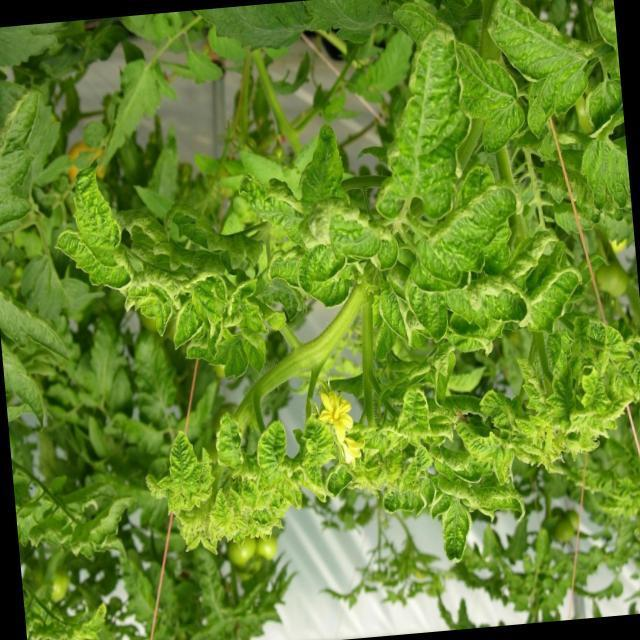Yellow Curl Virus: (364, 24, 479, 218), (414, 178, 536, 284), (477, 0, 586, 81), (294, 122, 348, 211), (520, 262, 586, 333), (407, 265, 452, 359), (70, 159, 114, 250), (437, 492, 474, 570), (293, 241, 344, 296), (393, 386, 436, 439), (166, 298, 203, 359), (251, 416, 291, 472), (164, 426, 200, 487), (377, 284, 406, 356), (214, 408, 247, 467)
